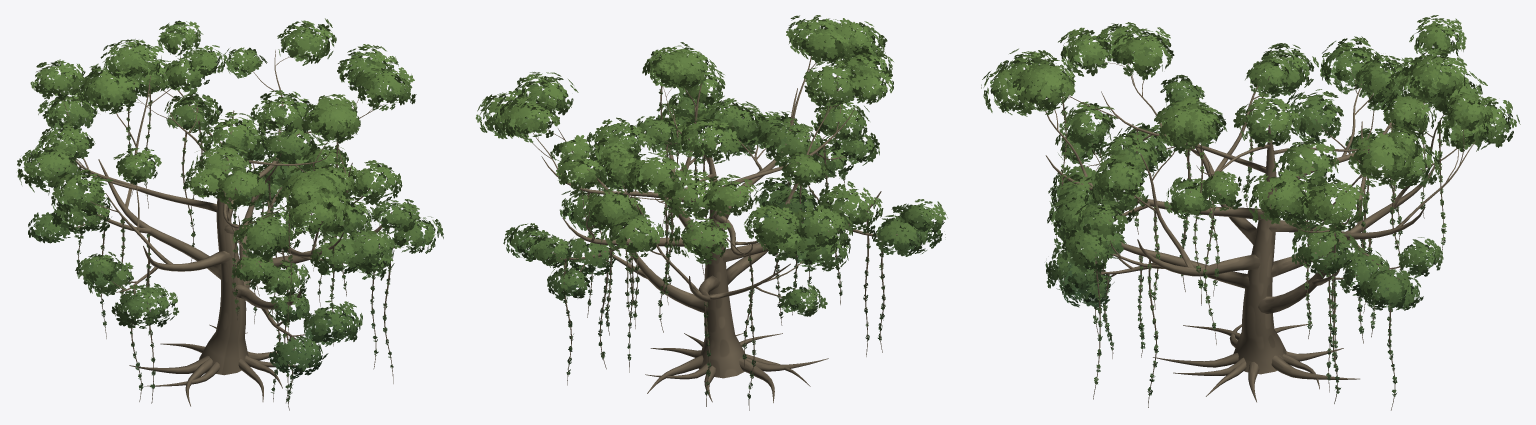
File: tree.gltf
3 views of the same model, side by side, from view 1: azimuth 30°, elevation 25°; view 2: azimuth 150°, elevation 25°; view 3: azimuth 270°, elevation 25° (orthographic). The views are drawn at different scales.
Visible parts, largest first — view 1: Tree_LOD0; view 2: Tree_LOD0; view 3: Tree_LOD0.
Boxes of the visible parts, x1=… form: Tree_LOD0: x1=17, y1=18, x2=443, y2=410; Tree_LOD0: x1=475, y1=15, x2=947, y2=410; Tree_LOD0: x1=981, y1=15, x2=1520, y2=410.
Bounding box in the file's own units: 31.9 × 21.31 × 34.28.
2 materials, 2 textured.
